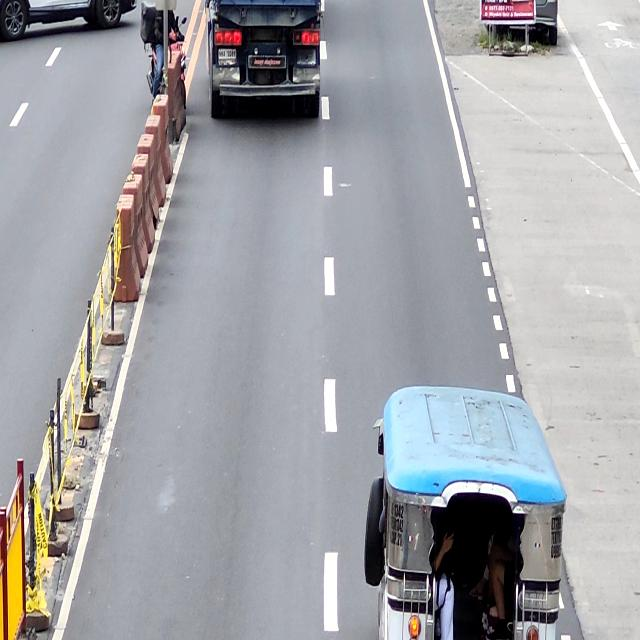Jeep: (364, 383, 567, 640)
License-Plate: (217, 49, 236, 60)
Truck: (207, 0, 324, 118)
